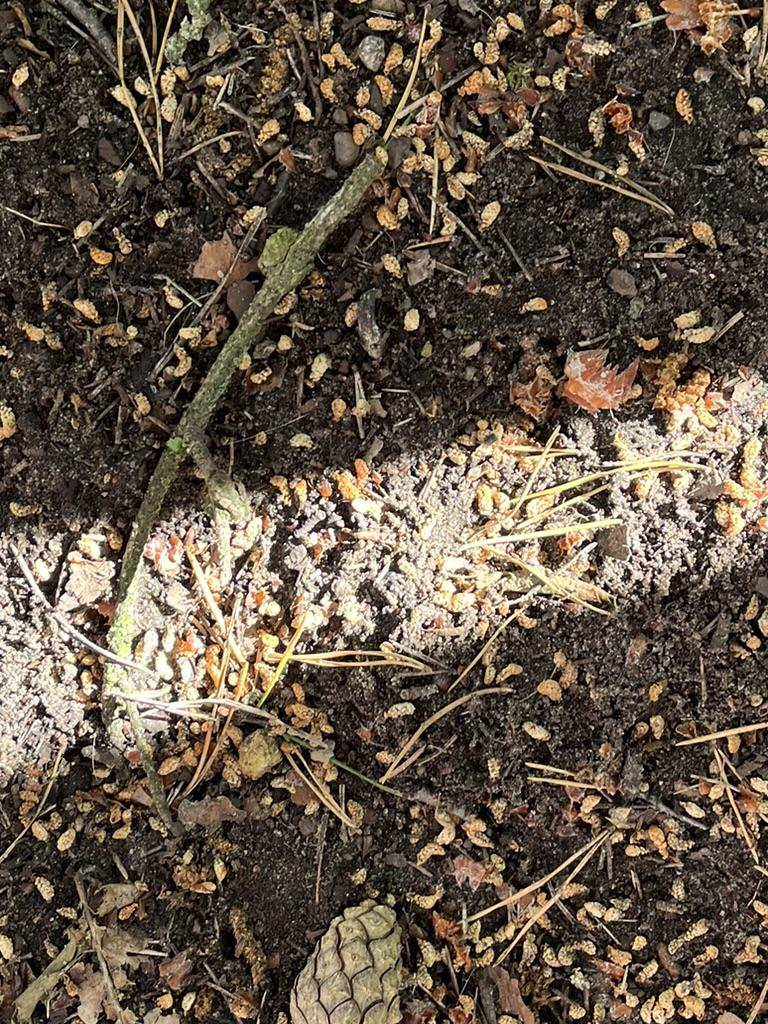pine: (291, 895, 418, 1024)
